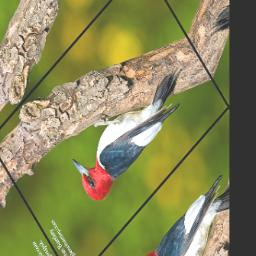Woodpecker: (64, 35, 200, 211)
